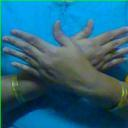hand: (3, 19, 102, 100), (68, 21, 128, 74)
